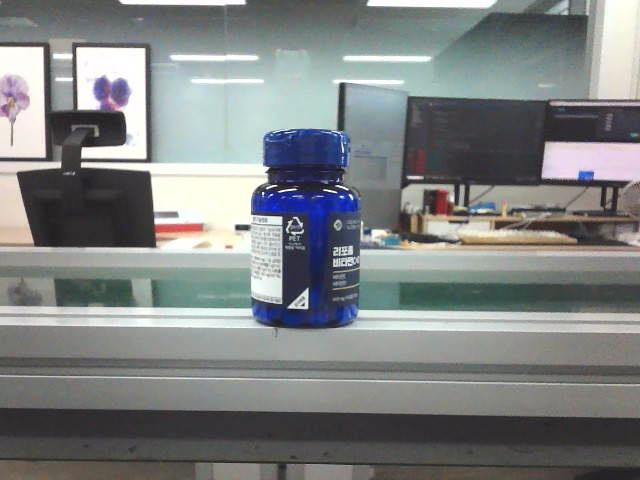labeled: (249, 125, 363, 331), (249, 124, 364, 328)
